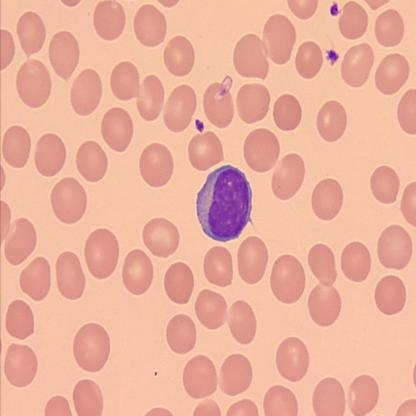Atypical lymphocyte: (191, 160, 255, 252)
